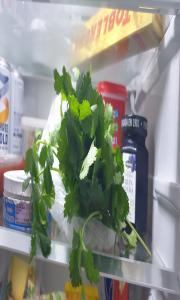Mermelada: (122, 116, 148, 240)
Queso: (4, 170, 52, 226)
